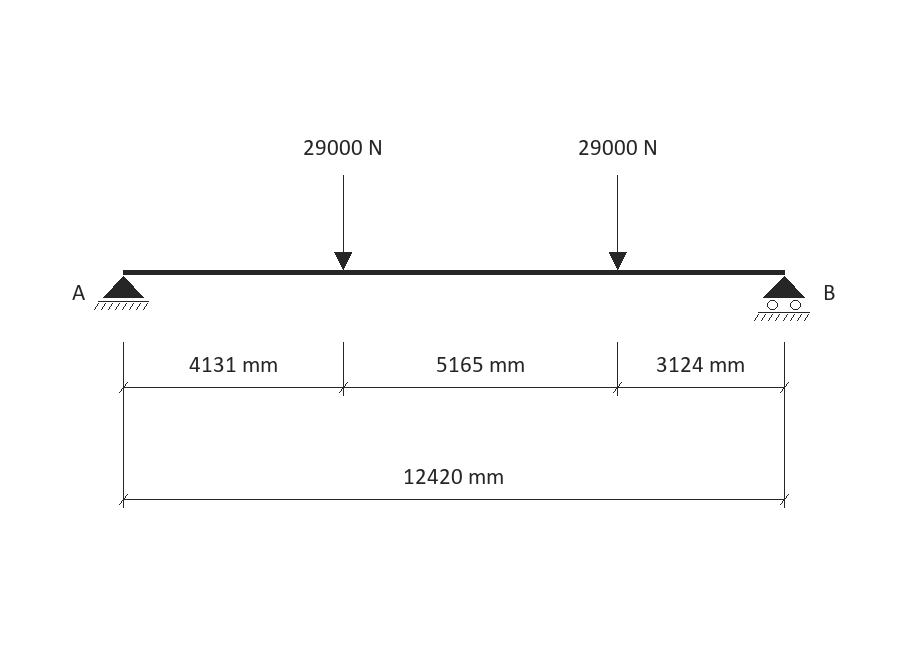pin_support: (94, 276, 149, 310)
point_load: (334, 175, 352, 270), (609, 175, 627, 270)
roller_support: (754, 276, 810, 321)
